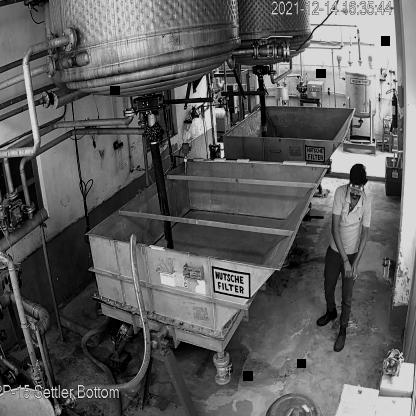goggles: (346, 184, 364, 198)
no_glove: (328, 217, 353, 279), (350, 228, 367, 282)
